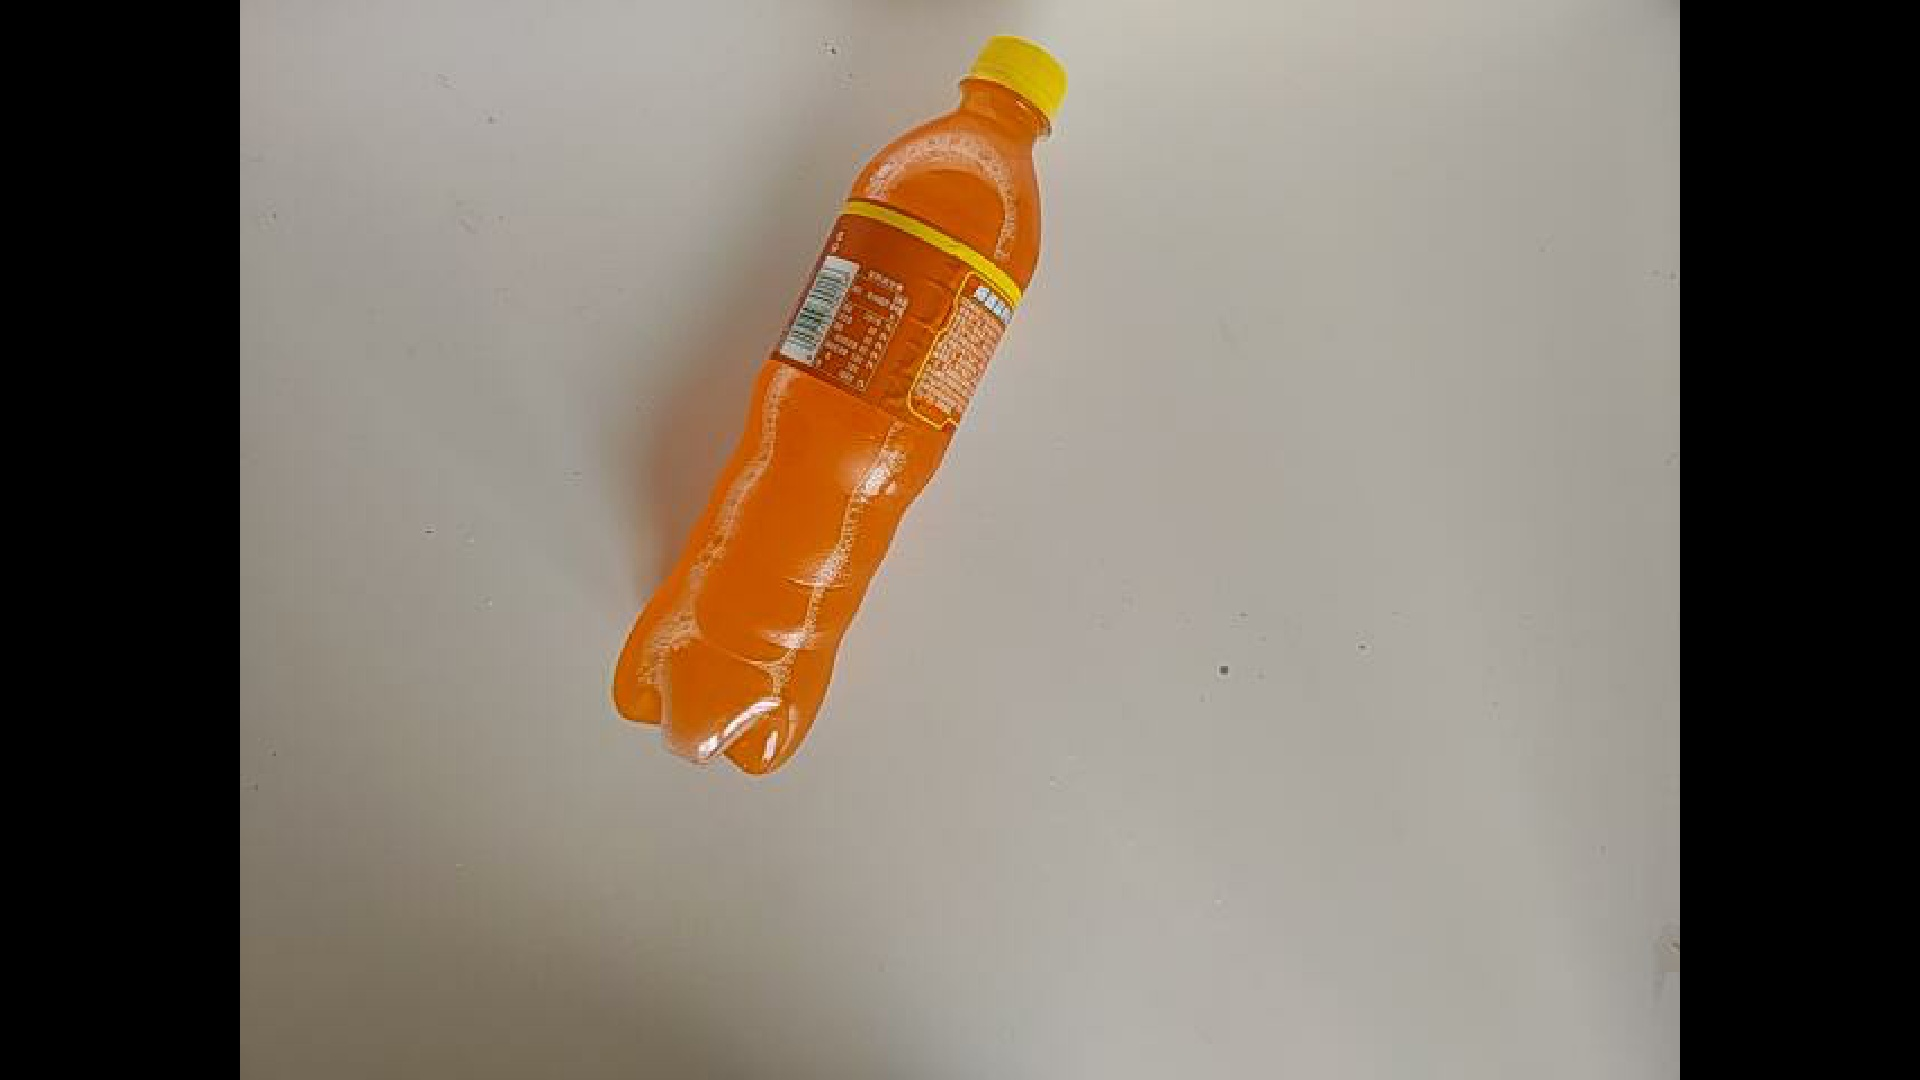fenta: (612, 33, 1072, 779)
